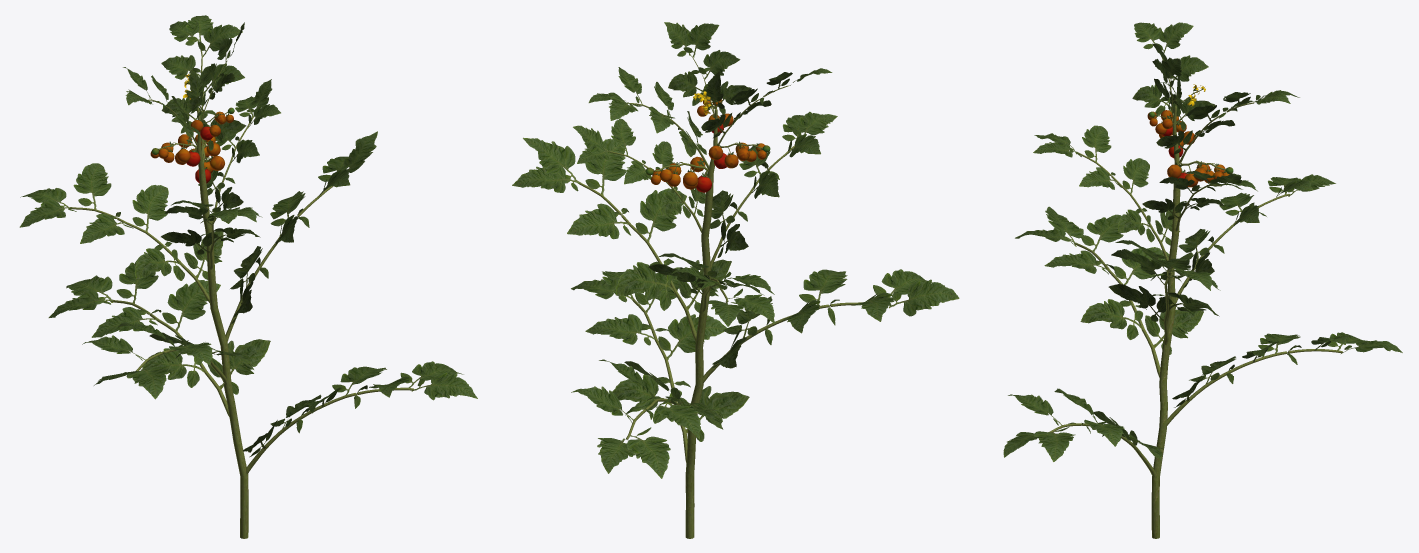
The picture shows the model from 3 angles, left to right: view 1: azimuth 30°, elevation 25°; view 2: azimuth 150°, elevation 25°; view 3: azimuth 270°, elevation 25°; orthographic projection. The views are drawn at different scales.
Parts seen in each view (by area): view 1: VG18_4; view 2: VG18_4; view 3: VG18_4.
Part boxes in pixels (box(x1,y1,x2,y2)): VG18_4: box(19, 15, 477, 538); VG18_4: box(512, 22, 959, 538); VG18_4: box(1003, 22, 1402, 538).
Bounding box in the file's own units: 0.9256 × 1.19 × 0.9081.
10 materials, 10 textured.
